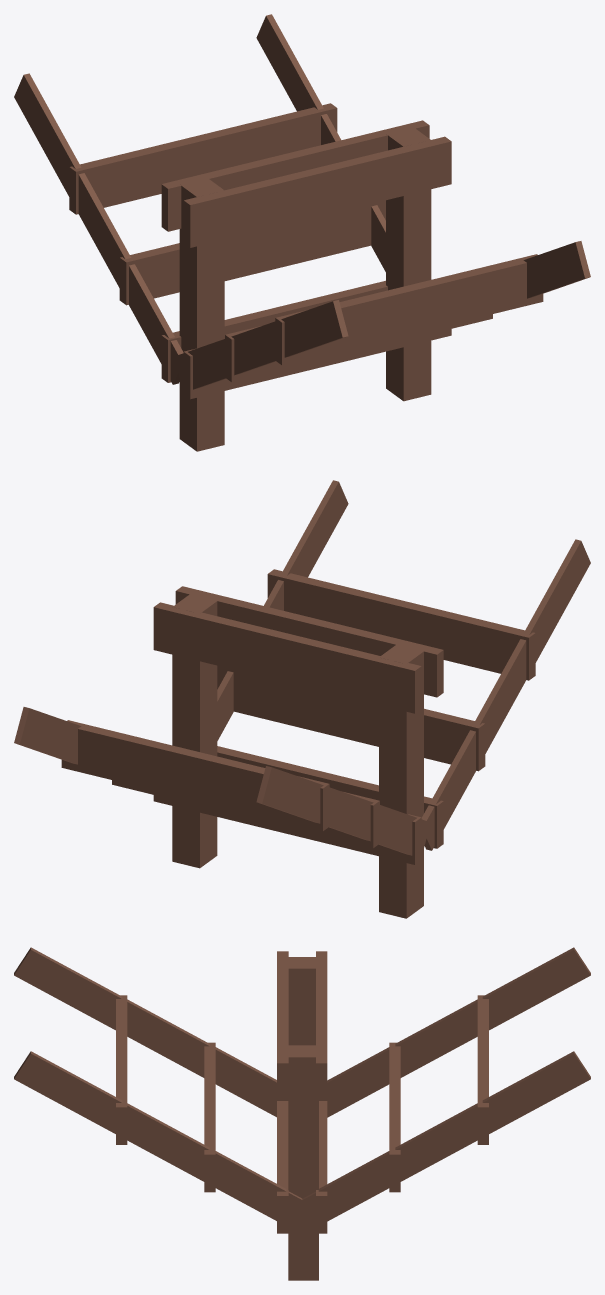
The model's file is base_estrutura.fbx.
3 renders of one model, top to bottom at view 1: azimuth 30°, elevation 25°; view 2: azimuth 150°, elevation 25°; view 3: azimuth 270°, elevation 25°, orthographic. The views are drawn at different scales.
Visible parts, largest first — view 1: Base_estrutura; view 2: Base_estrutura; view 3: Base_estrutura.
Boxes of the visible parts, x1,y1,x2,y2 form: Base_estrutura: [14, 14, 590, 451]; Base_estrutura: [14, 480, 590, 918]; Base_estrutura: [14, 947, 590, 1280].
Bounding box in the file's own units: 215 × 204 × 467.
